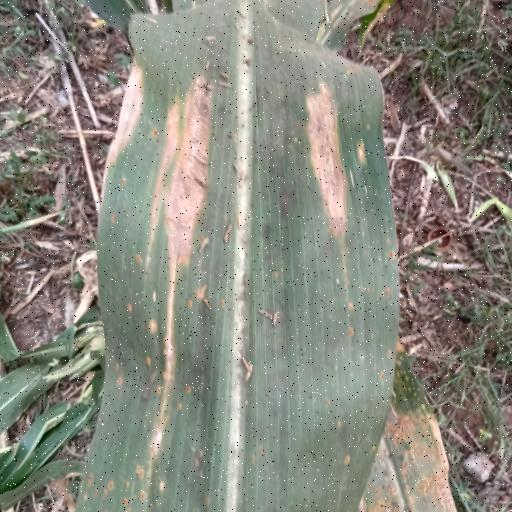Corn_Rust: (74, 0, 402, 512)
